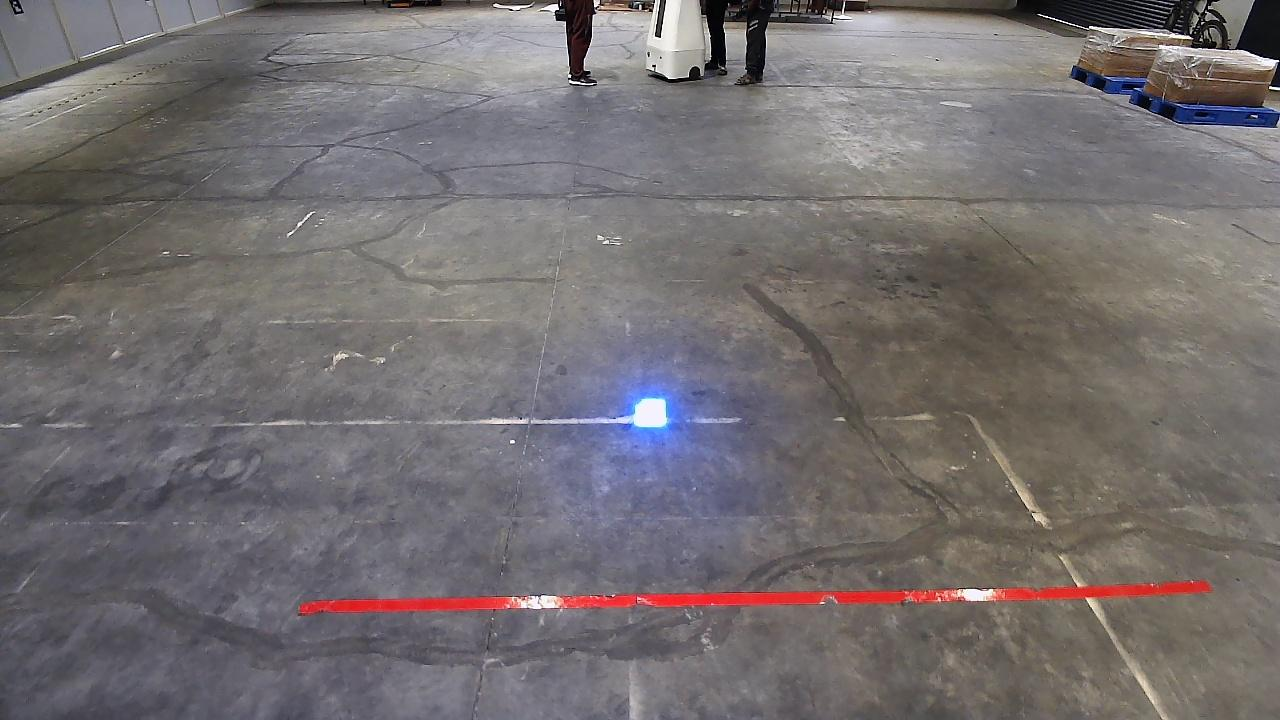red_line: (297, 583, 1211, 608)
